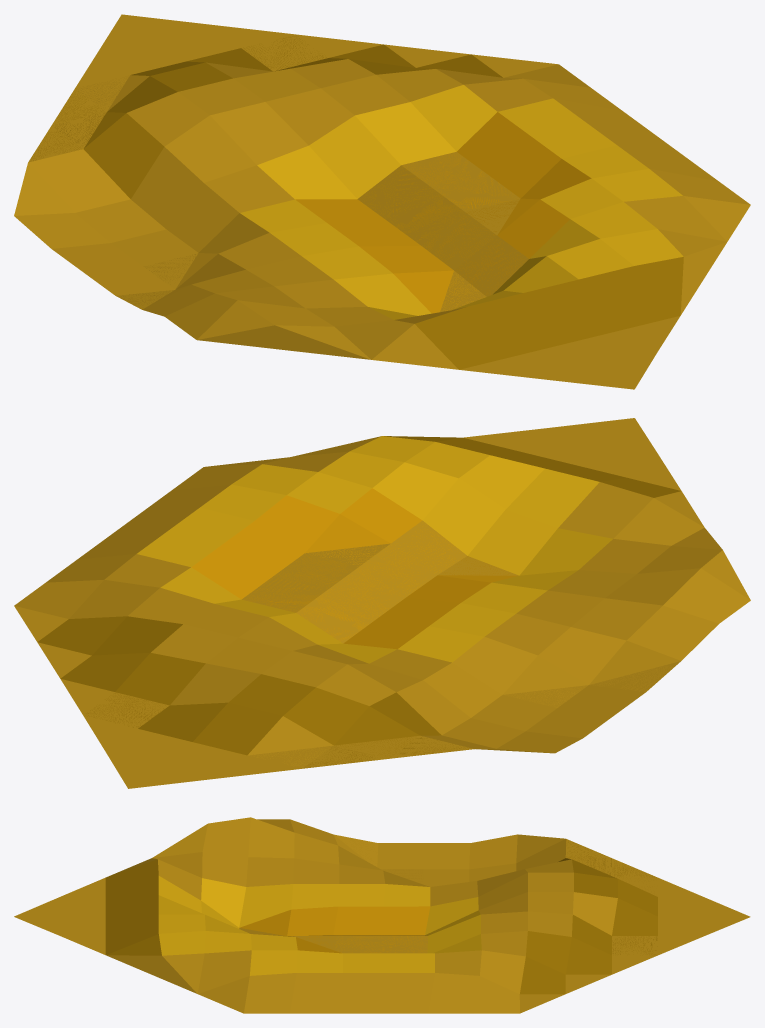
File: Mine.fbx
3 renders of one model, top to bottom at view 1: azimuth 30°, elevation 25°; view 2: azimuth 150°, elevation 25°; view 3: azimuth 270°, elevation 25°, orthographic. The views are drawn at different scales.
Parts seen in each view (by area): view 1: Plane; view 2: Plane; view 3: Plane.
Boxes of the visible parts, bbox=[...] form: Plane: bbox=[14, 14, 750, 389]; Plane: bbox=[14, 418, 750, 788]; Plane: bbox=[14, 817, 750, 1013].
Size of the model in its own units: 1.25 by 0.1373 by 2.
